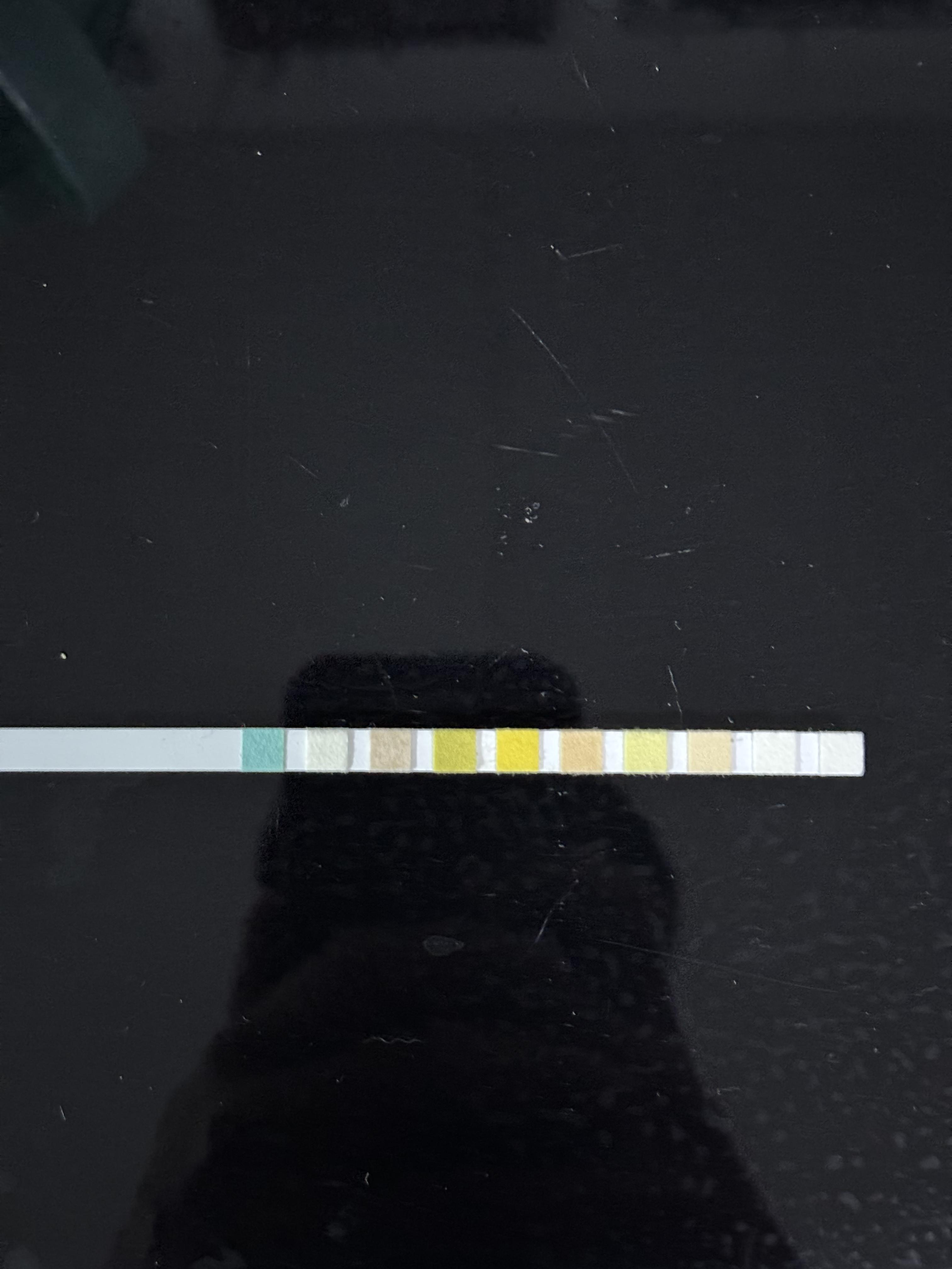Bilirubin: (309, 730, 346, 770)
Blood: (497, 731, 539, 772)
Glucose: (244, 730, 284, 770)
Ketone: (371, 730, 410, 770)
Leukocytes: (821, 734, 862, 774)
Nitrite: (753, 732, 796, 772)
Protein: (626, 732, 666, 772)
SpGravity: (436, 730, 475, 772)
Urobilinogen: (689, 732, 729, 773)
pH: (563, 731, 602, 771)
strip: (10, 728, 864, 776)
